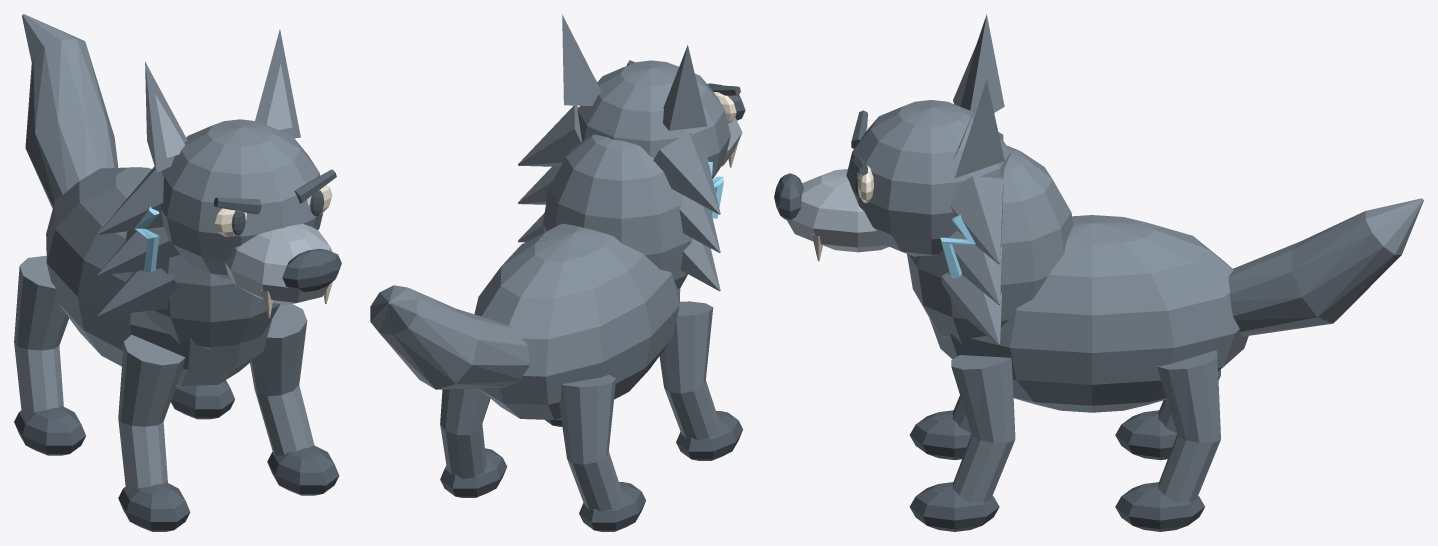
The model's file is dire-wolf.glb.
The picture shows the model from 3 angles, left to right: view 1: azimuth 30°, elevation 25°; view 2: azimuth 150°, elevation 25°; view 3: azimuth 270°, elevation 25°; orthographic projection. The views are drawn at different scales.
Visible parts, largest first — view 1: head, body, tail, leg_-1_0, neck, leg_-1_1, leg_1_0, muzzle, paw_-1_1, paw_-1_0, paw_1_0, ruff_-10 (+12 smaller); view 2: body, neck, tail, head, leg_-1_1, leg_-1_0, leg_1_1, ruff_-12, ear_-1, ear_1, ruff_12, paw_-1_0 (+5 smaller); view 3: body, tail, head, neck, leg_1_0, leg_1_1, muzzle, ruff_12, paw_1_0, paw_1_1, ear_1, ruff_10 (+6 smaller).
Part boxes in pixels (box(x1,y1,x2,y2)): head: box(161, 119, 322, 279); body: box(46, 167, 271, 385); tail: box(22, 14, 118, 208); leg_-1_0: box(118, 334, 185, 490); neck: box(125, 230, 280, 349); leg_-1_1: box(14, 256, 68, 414); leg_1_0: box(250, 304, 314, 455); muzzle: box(225, 223, 332, 304); paw_-1_1: box(14, 406, 85, 455); paw_-1_0: box(118, 482, 190, 531); paw_1_0: box(267, 445, 339, 495); ruff_-10: box(97, 268, 178, 316); body: box(474, 223, 680, 419); neck: box(542, 134, 692, 289); tail: box(370, 285, 529, 389); head: box(577, 60, 730, 178); leg_-1_1: box(559, 374, 622, 511); leg_-1_0: box(659, 301, 719, 440); leg_1_1: box(440, 388, 490, 479); ruff_-12: box(653, 133, 720, 214); ear_-1: box(663, 45, 707, 130); ear_1: box(562, 14, 601, 105); ruff_12: box(518, 105, 581, 166); paw_-1_0: box(676, 411, 742, 460); body: box(929, 215, 1248, 412); tail: box(1228, 198, 1423, 336); head: box(846, 100, 1011, 256); neck: box(907, 146, 1073, 343); leg_1_0: box(951, 355, 1015, 502); leg_1_1: box(1157, 350, 1220, 502); muzzle: box(786, 169, 888, 252); ruff_12: box(950, 176, 1003, 264); paw_1_0: box(909, 482, 999, 531); paw_1_1: box(1115, 482, 1204, 531); ear_1: box(955, 79, 1004, 178); ruff_10: box(941, 272, 1001, 345).
Bounding box in the file's own units: 1.81 × 3.6 × 4.76.
